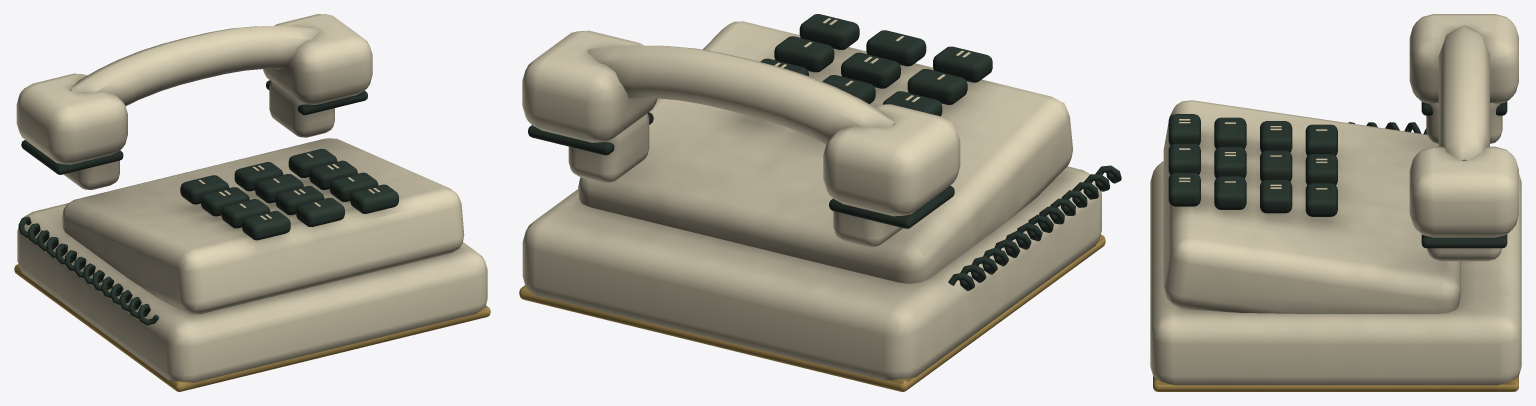
The model's file is phone-03.gltf.
The picture shows the model from 3 angles, left to right: view 1: azimuth 30°, elevation 25°; view 2: azimuth 150°, elevation 25°; view 3: azimuth 270°, elevation 25°; orthographic projection. The views are drawn at different scales.
Parts seen in each view (by area): view 1: phone-03; view 2: phone-03; view 3: phone-03.
Part boxes in pixels (bbox=[...]): phone-03: bbox=[14, 14, 490, 391]; phone-03: bbox=[519, 14, 1121, 391]; phone-03: bbox=[1150, 14, 1521, 391].
Bounding box in the file's own units: 0.464 × 0.2815 × 0.39.
Materials: 4 (4 with a texture image).
